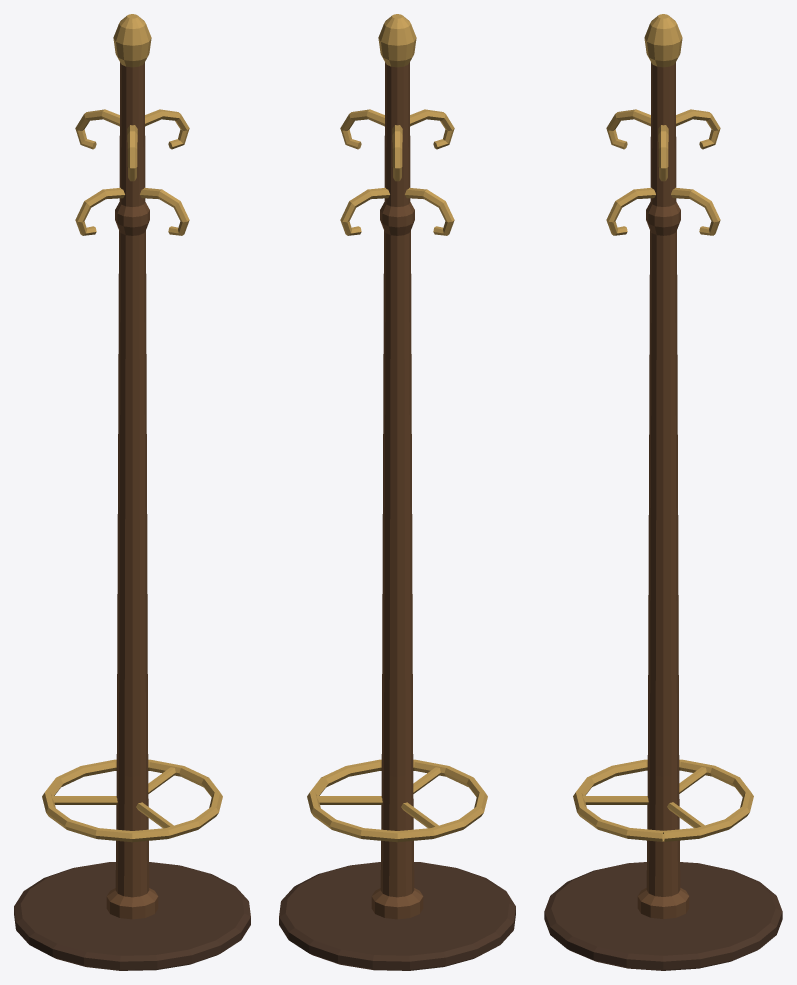
The model's file is FN_Coatstand.obj.
3 views of the same model, side by side, from view 1: azimuth 30°, elevation 25°; view 2: azimuth 150°, elevation 25°; view 3: azimuth 270°, elevation 25° (orthographic).
Visible parts, largest first — view 1: FN_Coatstand; view 2: FN_Coatstand; view 3: FN_Coatstand.
Boxes of the visible parts, bbox=[...] form: FN_Coatstand: bbox=[14, 14, 250, 970]; FN_Coatstand: bbox=[279, 14, 515, 970]; FN_Coatstand: bbox=[544, 14, 782, 970].
Size of the model in its own units: 0.424 by 1.78 by 0.424.
1 material, 1 textured.
